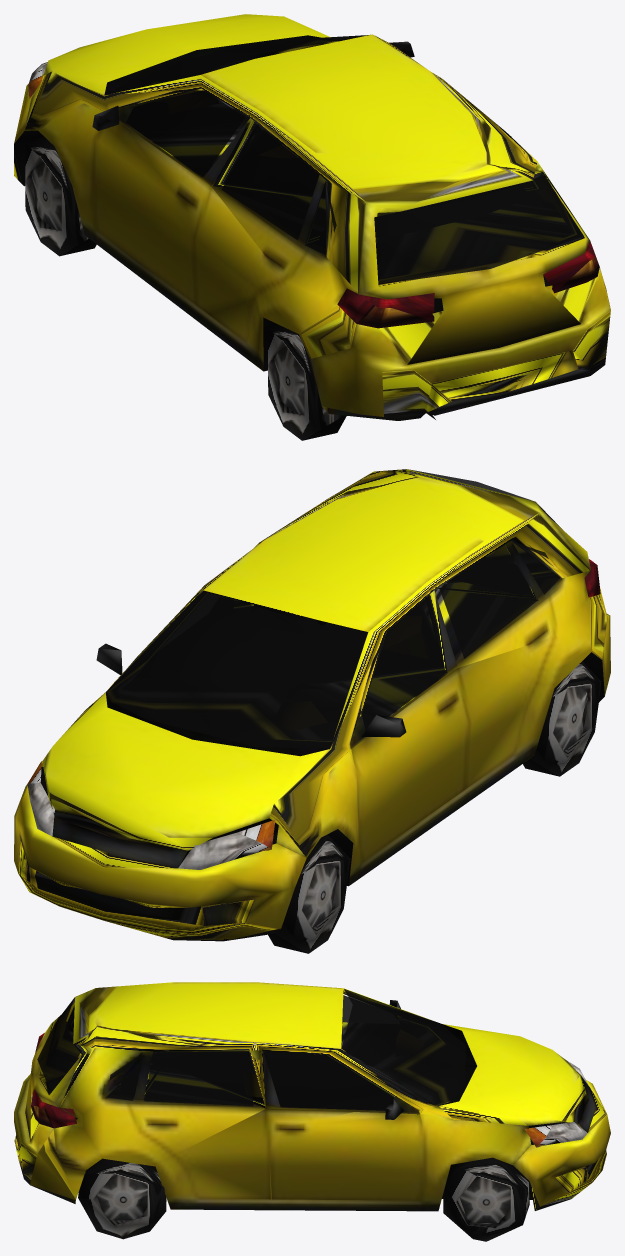
Rendered from c_hatch_lo.glb.
The picture shows the model from 3 angles, top to bottom: view 1: azimuth 30°, elevation 25°; view 2: azimuth 150°, elevation 25°; view 3: azimuth 270°, elevation 25°; orthographic projection. The views are drawn at different scales.
Visible parts, largest first — view 1: body|Body_1, body|glass, body|Wheek, body|Optics_1; view 2: body|Body_1, body|glass, body|Wheek, body|Optics_1; view 3: body|Body_1, body|glass, body|Wheek, body|Optics_1.
Part boxes in pixels (x1=…): body|Body_1: x1=14, y1=14, x2=610, y2=420; body|glass: x1=107, y1=35, x2=582, y2=284; body|Wheek: x1=25, y1=136, x2=346, y2=440; body|Optics_1: x1=28, y1=62, x2=599, y2=328; body|Body_1: x1=14, y1=469, x2=610, y2=941; body|glass: x1=106, y1=469, x2=562, y2=748; body|Wheek: x1=268, y1=661, x2=601, y2=953; body|Optics_1: x1=27, y1=559, x2=600, y2=869; body|Body_1: x1=14, y1=982, x2=610, y2=1211; body|glass: x1=37, y1=989, x2=465, y2=1110; body|Wheek: x1=78, y1=1157, x2=529, y2=1241; body|Optics_1: x1=31, y1=1033, x2=588, y2=1147.
Size of the model in its own units: 1.74 by 1.35 by 3.95.
4 materials, 3 textured.
